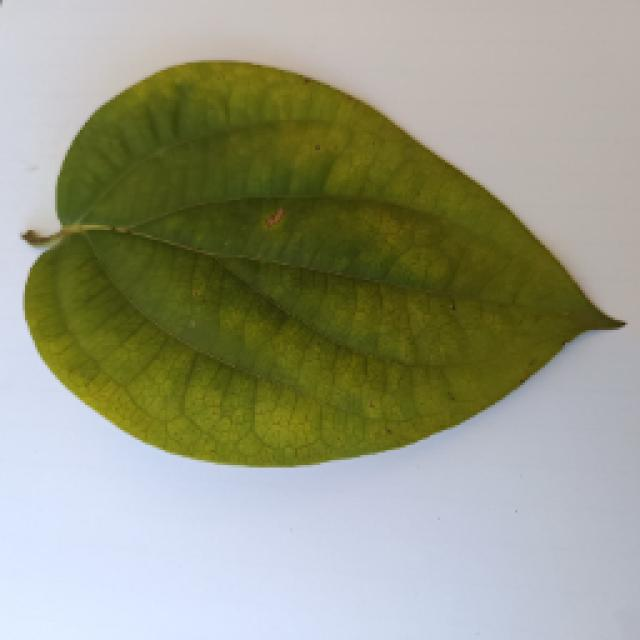slow-decline: (7, 0, 625, 468)
